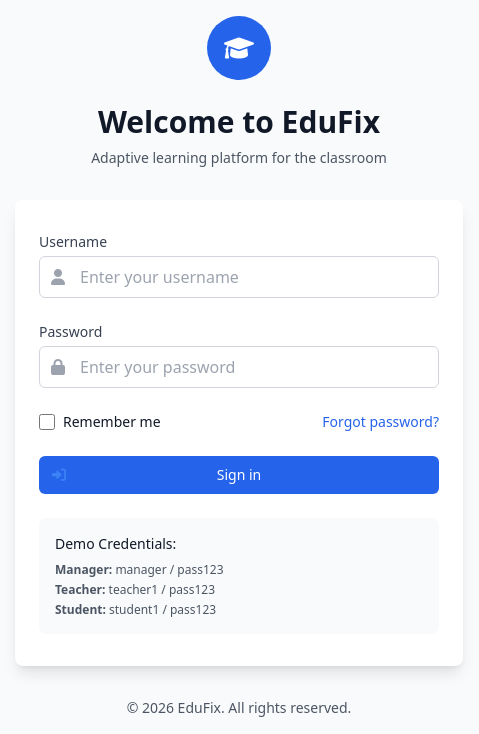
Test: Login Component › Loading States › shows loading state during submission
The image size is (479, 734).
Fill form
Type "student1" into the field labelled "Username".
click(239, 277); type("student1")  # box [39,256,439,298]
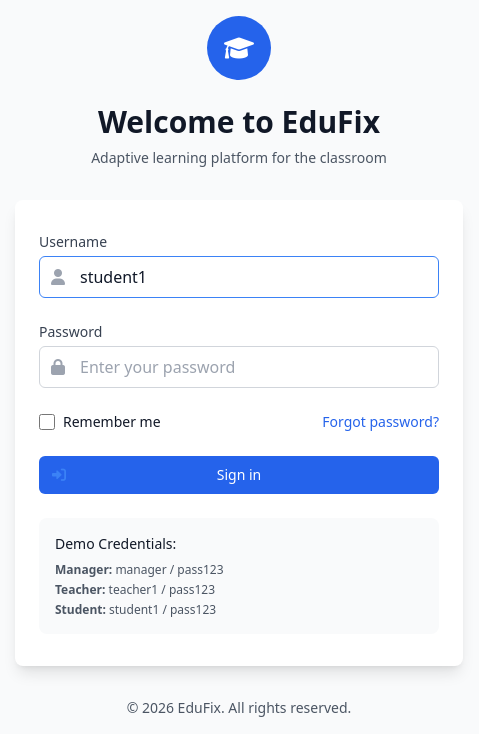
Type "pass123" into the password field labelled "Password".
click(239, 367); type("pass123")  # box [39,346,439,388]
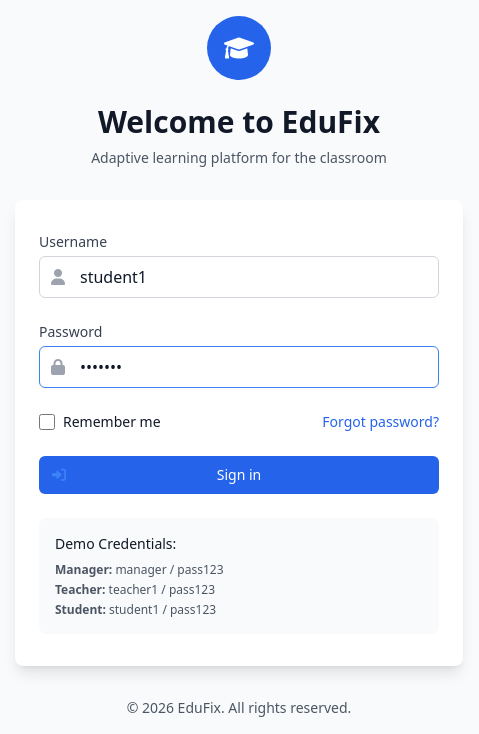
Submit form
Click the button "Sign in".
click(239, 475)  # box [39,456,439,494]
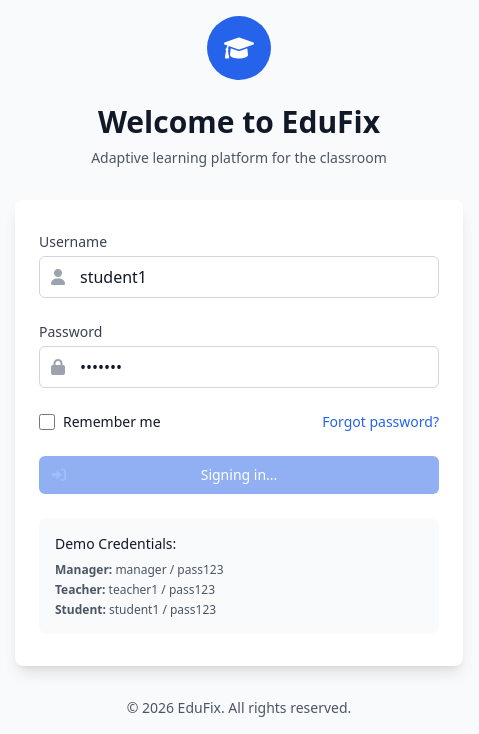
expect the button "Signing in..." is disabled: met, box [39,456,439,494]
